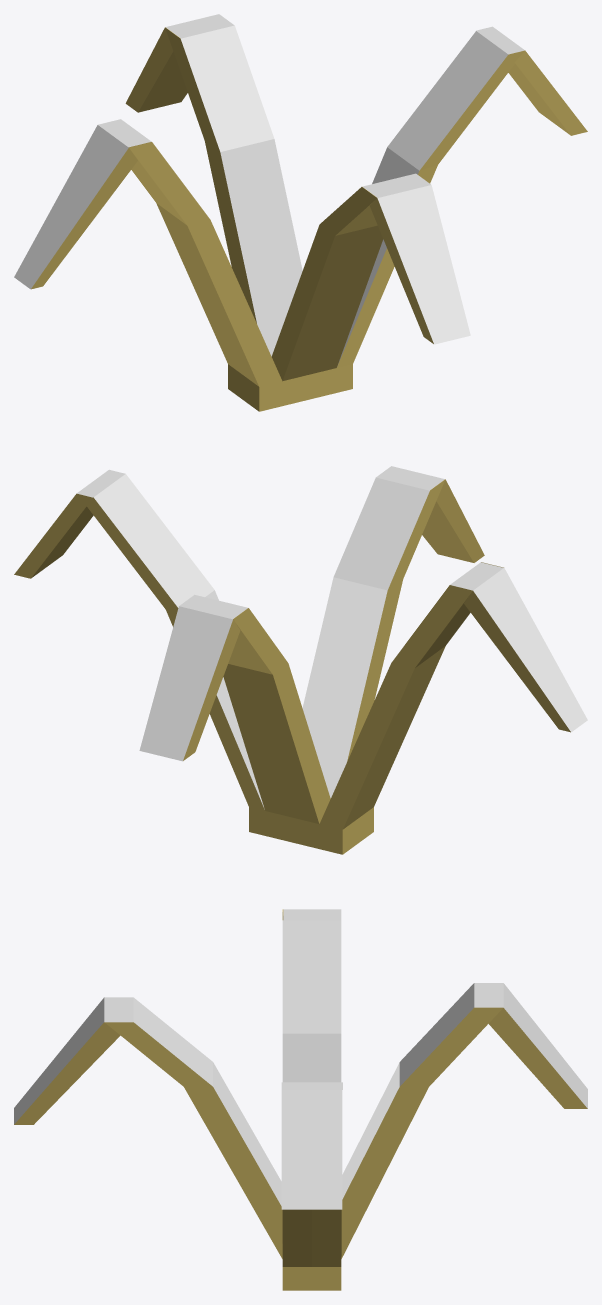
File: plant1.fbx
3 views of the same model, one above another, from view 1: azimuth 30°, elevation 25°; view 2: azimuth 150°, elevation 25°; view 3: azimuth 270°, elevation 25° (orthographic). The views are drawn at different scales.
Visible parts, largest first — view 1: Cube; view 2: Cube; view 3: Cube.
Part boxes in pixels (left/top/right/bottom): Cube: left=14, top=14, right=587, bottom=411; Cube: left=14, top=466, right=587, bottom=854; Cube: left=14, top=909, right=587, bottom=1290.
Bounding box in the file's own units: 282 × 161 × 271.
